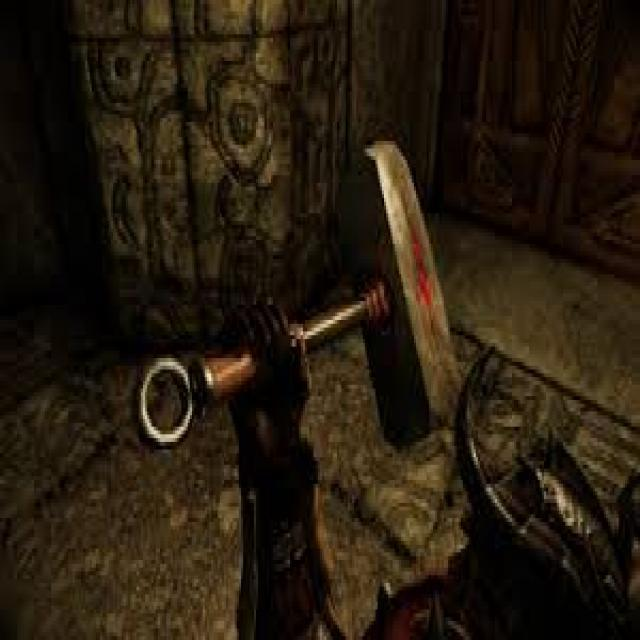hammer: (135, 128, 472, 494)
